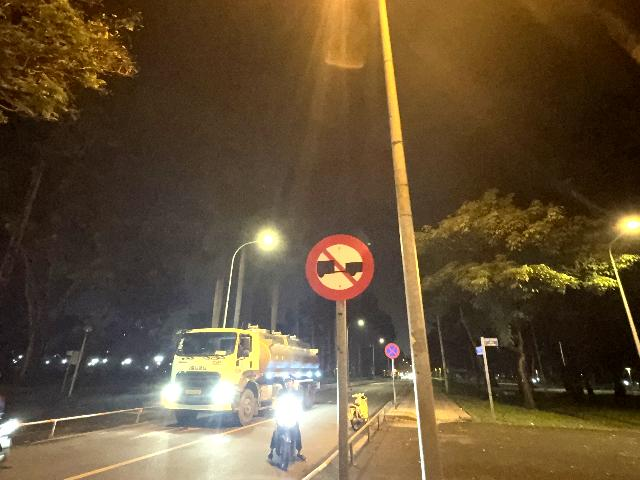cam-xe-somi-romooc: (305, 234, 375, 301)
